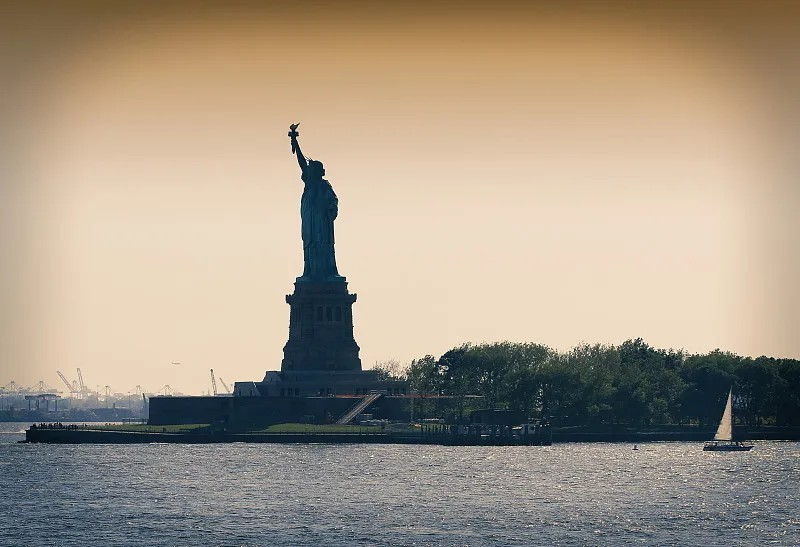SL: (280, 122, 361, 371)
